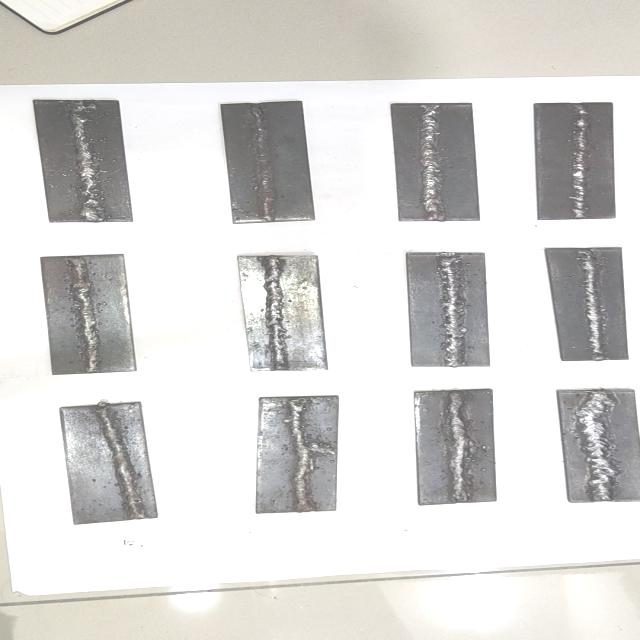Bad Weld: (568, 392, 617, 499), (69, 102, 105, 220), (288, 399, 314, 511)
Defect: (568, 389, 619, 501), (61, 100, 107, 120), (291, 442, 337, 459)
Good Weld: (96, 406, 146, 516), (67, 258, 99, 372), (438, 254, 465, 366), (579, 250, 607, 358), (261, 257, 288, 368), (418, 105, 442, 218), (446, 391, 470, 501), (568, 105, 590, 218), (253, 106, 274, 218)
